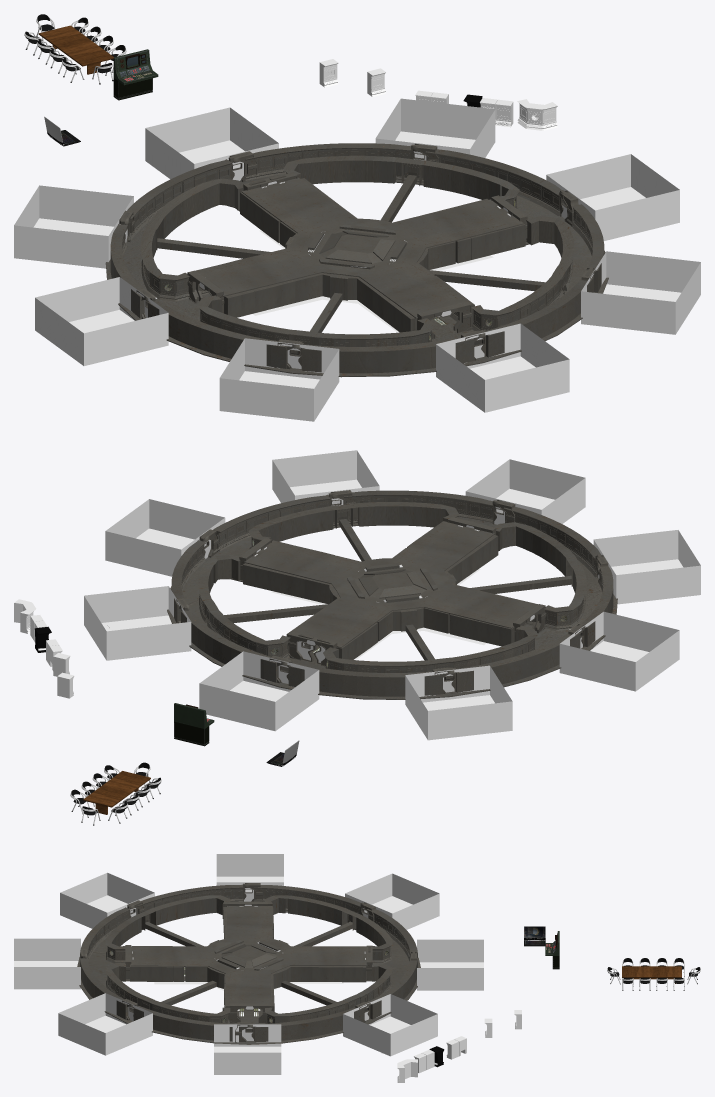
The model's file is Map03 04 18h.fbx.
3 views of the same model, one above another, from view 1: azimuth 30°, elevation 25°; view 2: azimuth 150°, elevation 25°; view 3: azimuth 270°, elevation 25° (orthographic). The views are drawn at different scales.
Parts seen in each view (by area): view 1: Cube.021, Cube.023, Hoctogone milieu.001, Cube.009, Cube.030, Cube.028, Cube, Cube.027, Cube.031, Cube.011, Sol, Cube.029 (+11 smaller); view 2: Cube.021, Cube.023, Hoctogone milieu.001, Cube.009, Cube.029, Cube.031, Cube.011, Cube.027, Cube.028, Cube, Cube.030, Sol (+8 smaller); view 3: Cube.021, Cube.023, Hoctogone milieu.001, Cube.030, Cube.029, Cube, Cube.011, Cube.028, Cube.031, Cube.027, Sol, Cube.009 (+7 smaller).
Part boxes in pixels (box(x1,y1,x2,y2)): Cube.021: box(140, 155, 574, 354); Cube.023: box(110, 143, 604, 373); Hoctogone milieu.001: box(195, 177, 523, 318); Cube.009: box(35, 277, 168, 365); Cube.030: box(581, 251, 700, 334); Cube.028: box(14, 185, 133, 268); Cube: box(436, 323, 569, 412); Cube.027: box(546, 154, 679, 240); Cube.031: box(219, 338, 339, 421); Cube.011: box(145, 107, 278, 179); Sol: box(105, 174, 608, 377); Cube.029: box(375, 98, 495, 158); Cube.021: box(198, 502, 586, 680); Cube.023: box(171, 490, 613, 696); Hoctogone milieu.001: box(244, 521, 536, 647); Cube.009: box(559, 611, 679, 691); Cube.029: box(84, 586, 191, 660); Cube.031: box(593, 530, 700, 604); Cube.011: box(199, 651, 319, 731); Cube.027: box(105, 499, 225, 576); Cube.028: box(405, 665, 512, 740); Cube: box(465, 459, 585, 523); Cube.030: box(272, 450, 379, 504); Sol: box(167, 518, 617, 699); Cube.021: box(105, 895, 392, 1023); Cube.023: box(80, 884, 417, 1041); Hoctogone milieu.001: box(130, 906, 367, 1006); Cube.030: box(58, 993, 152, 1055); Cube.029: box(343, 994, 437, 1056); Cube: box(14, 938, 80, 989); Cube.011: box(417, 939, 483, 990); Cube.028: box(345, 873, 439, 929); Cube.031: box(60, 872, 154, 928); Cube.027: box(214, 1024, 281, 1074); Sol: box(77, 910, 420, 1044); Cube.009: box(216, 854, 283, 892).
Size of the model in its own units: 8815 by 874 by 12635.
